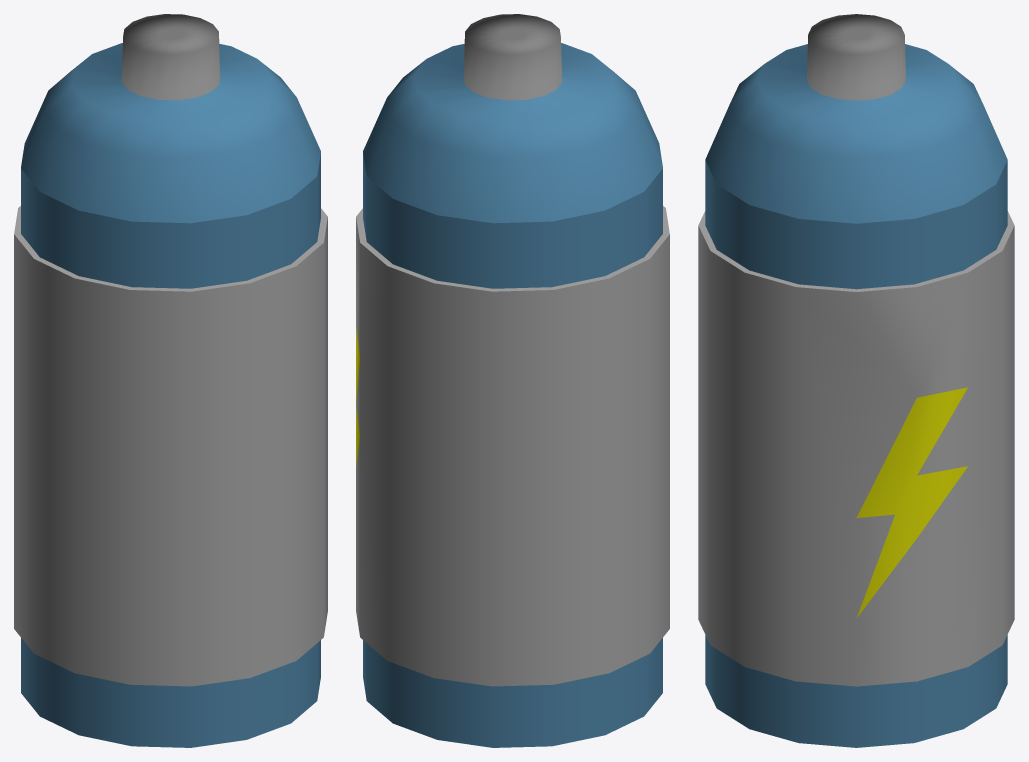
The model's file is Stamina_PickUp_V1.fbx.
3 renders of one model, left to right at view 1: azimuth 30°, elevation 25°; view 2: azimuth 150°, elevation 25°; view 3: azimuth 270°, elevation 25°, orthographic.
Parts seen in each view (by area): view 1: Bottle; view 2: Bottle; view 3: Bottle.
Part boxes in pixels (x1,y1,x2,y2): Bottle: (14, 14, 327, 747); Bottle: (356, 14, 669, 747); Bottle: (698, 14, 1014, 747).
Size of the model in its own units: 0.3525 by 0.8054 by 0.3525.
